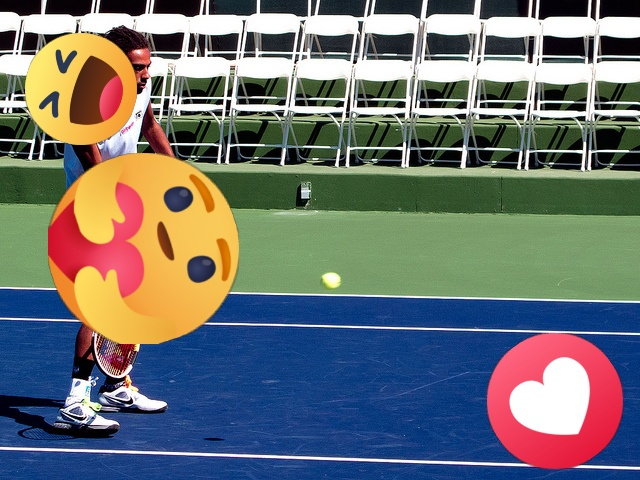care: (48, 153, 239, 344)
haha: (25, 33, 137, 145)
love: (487, 333, 623, 469)
